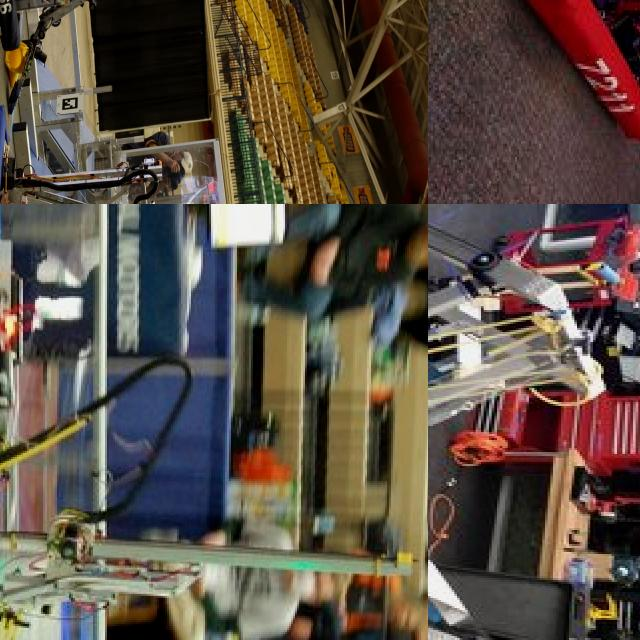FRC-Robots: (0, 204, 373, 640), (428, 204, 619, 640), (0, 90, 186, 204), (521, 0, 640, 178), (0, 0, 142, 76)
